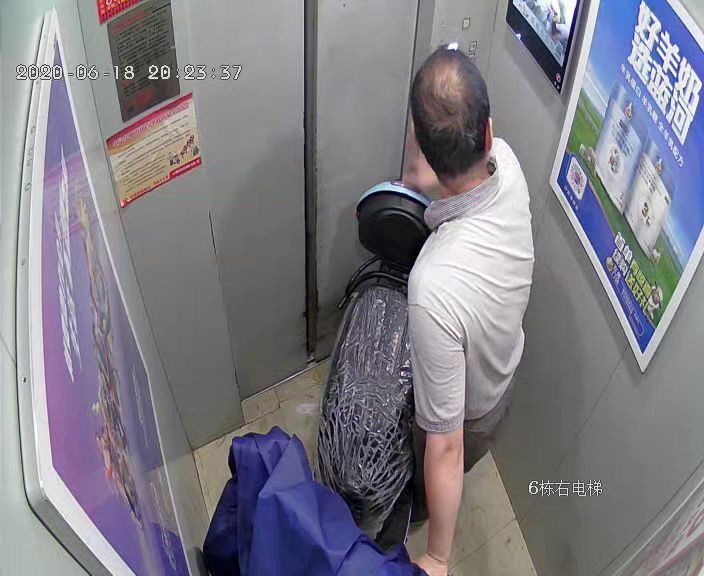Electric-bicycle: (222, 186, 440, 568)
